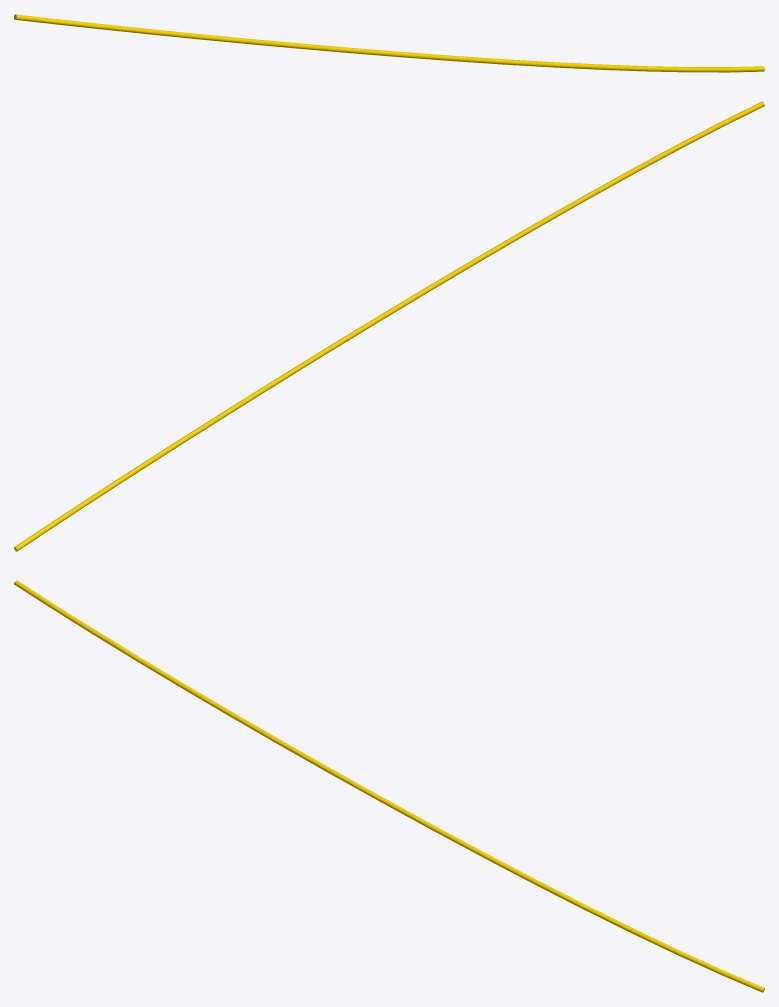
Rendered from Event_420107950_track_0.fbx.
The picture shows the model from 3 angles, top to bottom: view 1: azimuth 30°, elevation 25°; view 2: azimuth 210°, elevation 25°; view 3: azimuth 330°, elevation 25°; orthographic projection. The views are drawn at different scales.
Visible parts, largest first — view 1: Model; view 2: Model; view 3: Model.
Part boxes in pixels (bbox=[...]): Model: bbox=[14, 14, 764, 72]; Model: bbox=[14, 101, 764, 551]; Model: bbox=[14, 580, 764, 992].
Size of the model in its own units: 6.52 by 2.07 by 0.3532.
